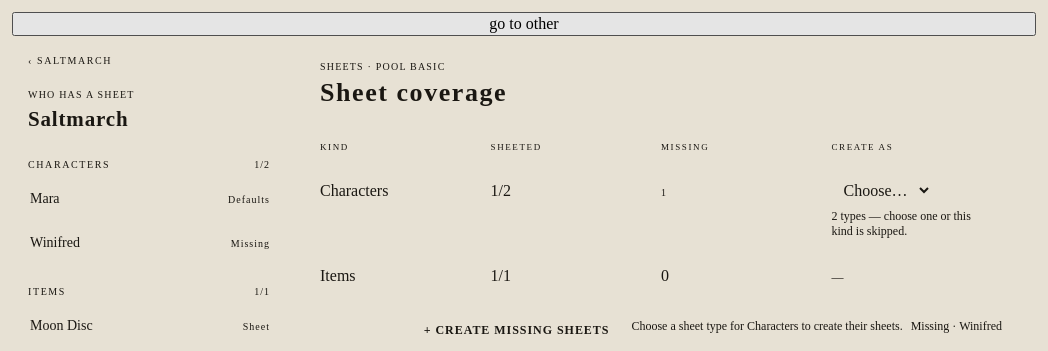
Scenario: picking a cast member opens their sheet, read-only
The width and height of the screenshot is (1048, 351).
Check: the heading "Sheet coverage" is shown, box [320,78,507,107]
Click the button "Mara Defaults" at point(249, 199), box [12,178,286,222]
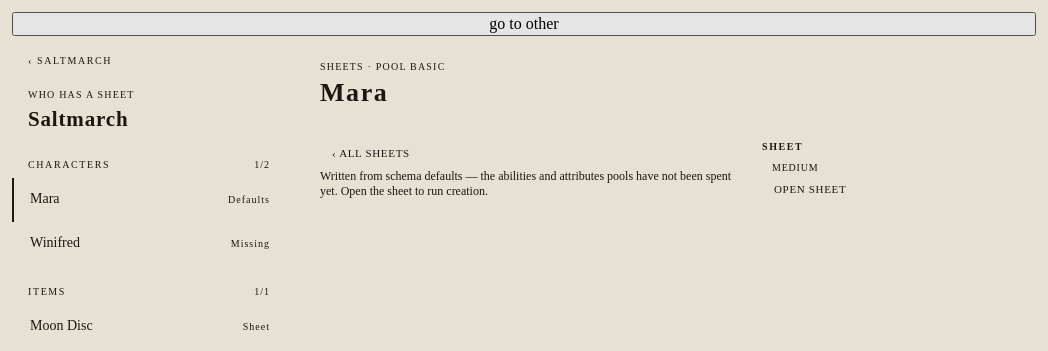
Check: the heading "Mara" is shown, box [320,78,388,106]
Check: the button "Open sheet" is shown, box [762,177,858,201]
Check: the text "abilities and attributes pools have not been spent" is shown, box [320,169,742,199]
Click the button "‹ All sheets" at point(371, 153), box [320,141,422,165]
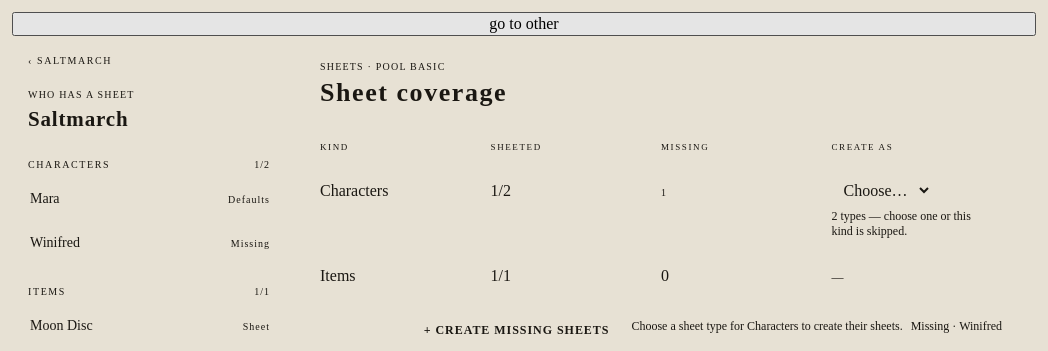
Check: the heading "Sheet coverage" is shown, box [320,78,507,107]
